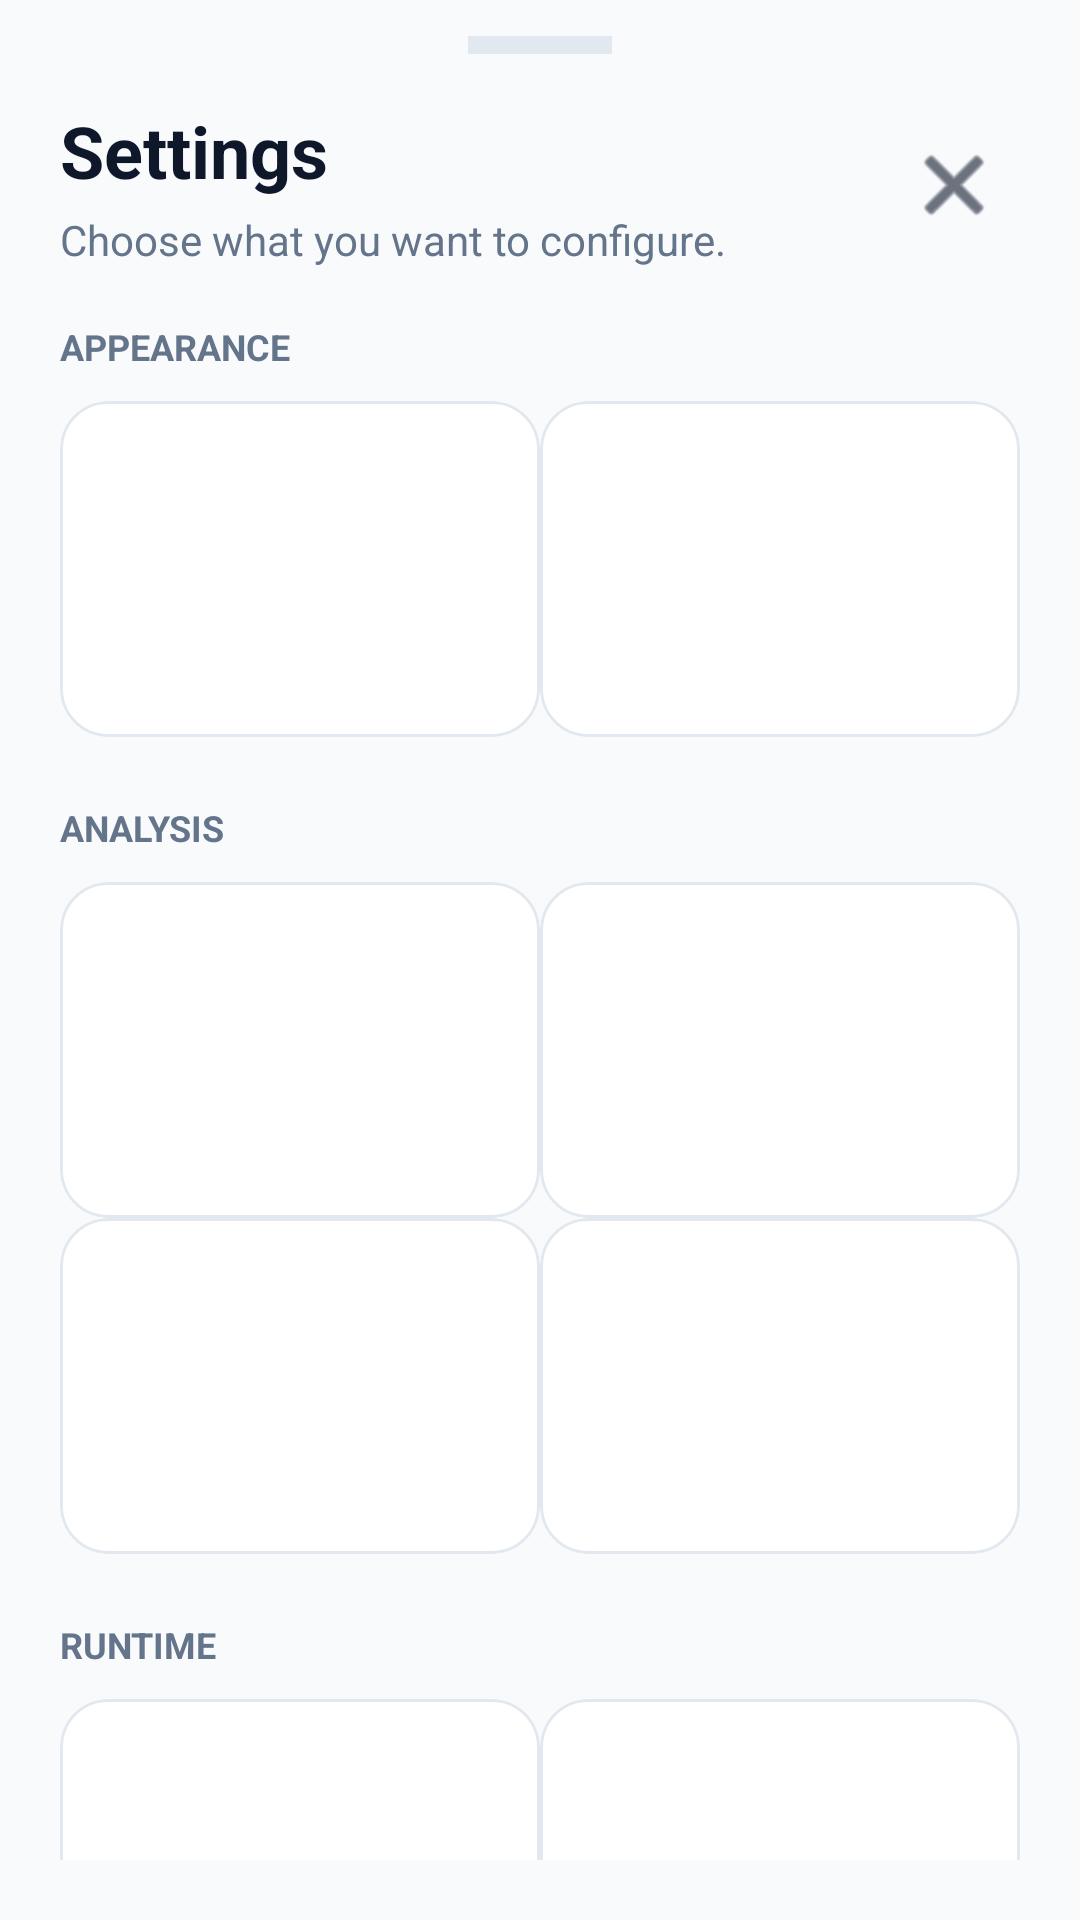

Where icons sit on this 1080 × 1920 app screen, as bbox=(x1, y1, x2, y2):
Close: bbox=(924, 155, 984, 215)
